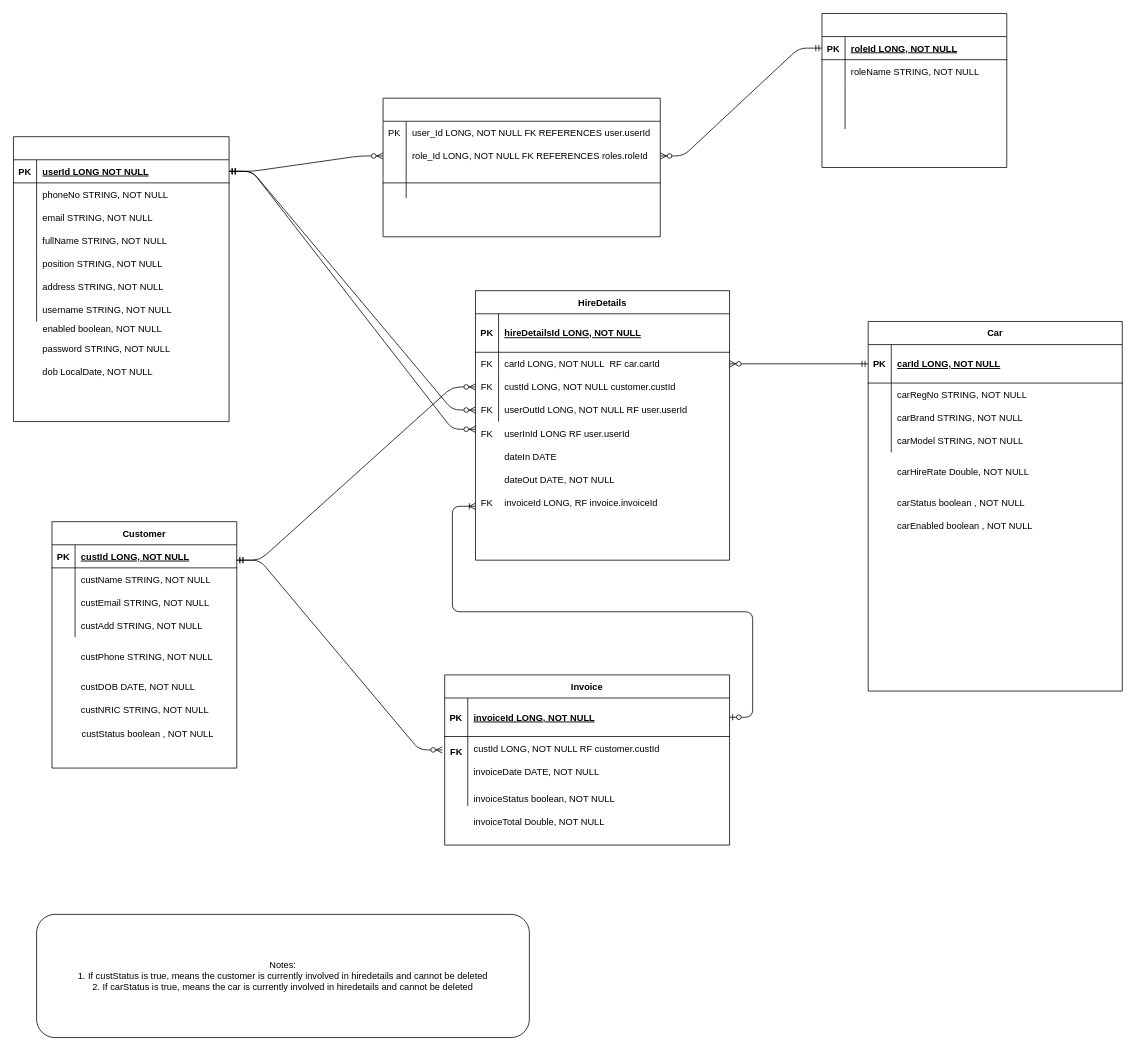
The diagram is 1136 pixels wide and 1051 high, and some of its shapes have lost their labels. Each missing label, with the box of its shape:
Roles: (821, 13, 1007, 167)
UserRoles: (382, 97, 660, 237)
Users: (13, 136, 229, 422)
